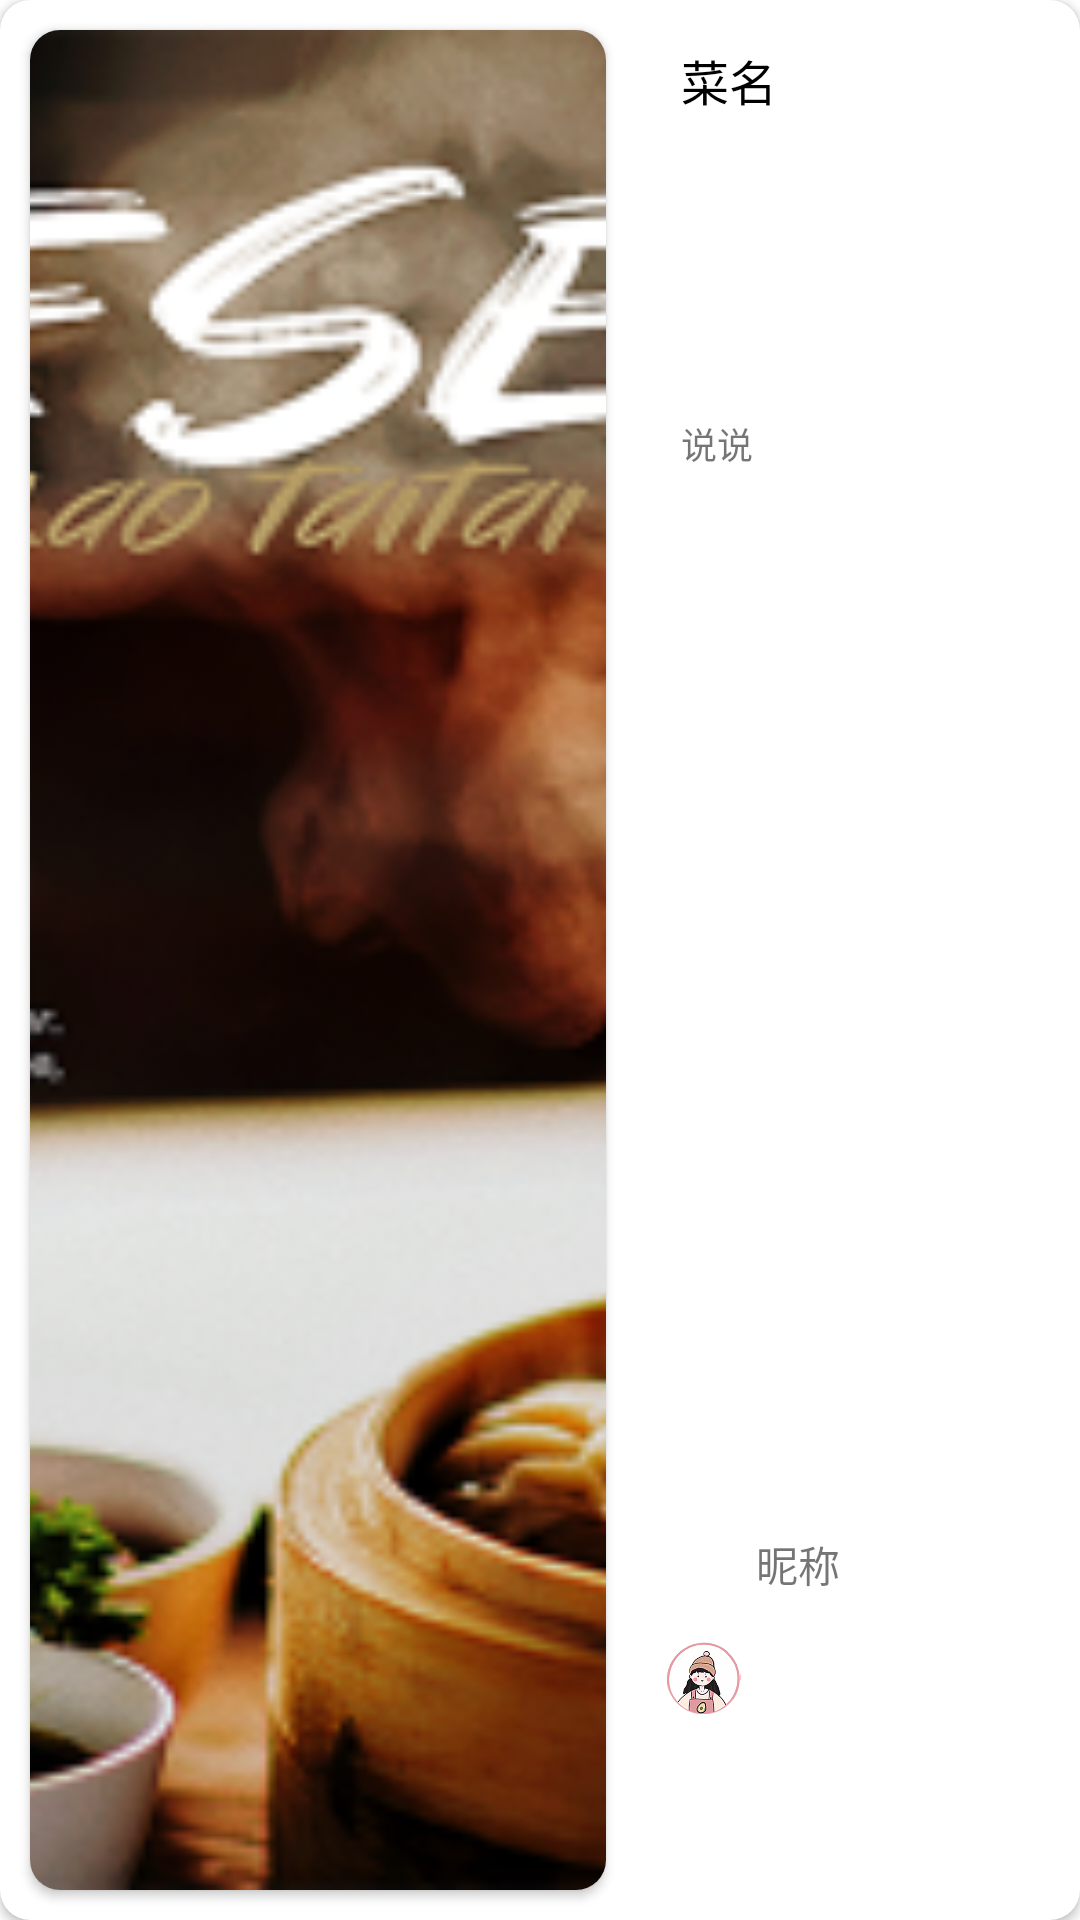

Screen size 1080px×1920px. Icon name, then its center in pixels as (x,y):
head: (704,1678)
